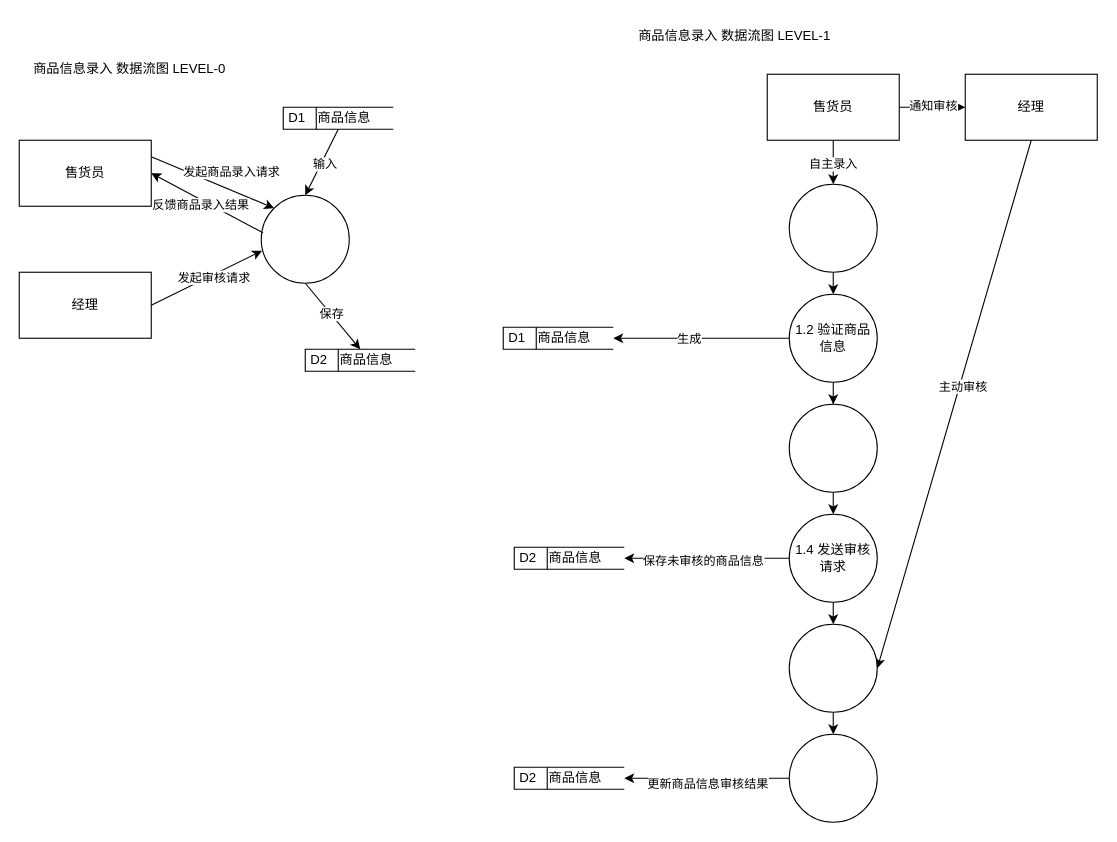
Some shapes in this 1117 by 842 pixel diagram are drawn without their labels. Here are the shapes that lost their labels. From the top down, the centre of each, then its label:
At [304,238]: "1. 商品管理模块".
At [832,227]: "1.1 录入商品信息".
At [832,447]: "1.3 远程验证商品信息".
At [832,667]: "1.5 审核商品信息".
At [832,777]: "1.6 更新商品信息".
